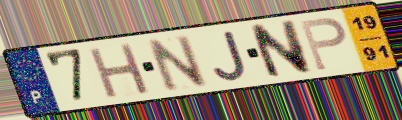7: (42, 47, 86, 105)
H: (86, 41, 153, 101)
J: (211, 29, 250, 83)
N: (246, 18, 315, 81), (143, 33, 211, 94)
P: (297, 15, 349, 73)
